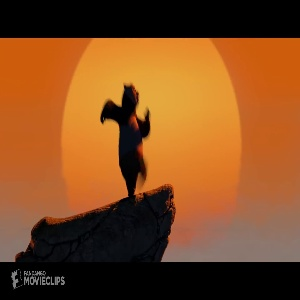po: (99, 79, 155, 198)
